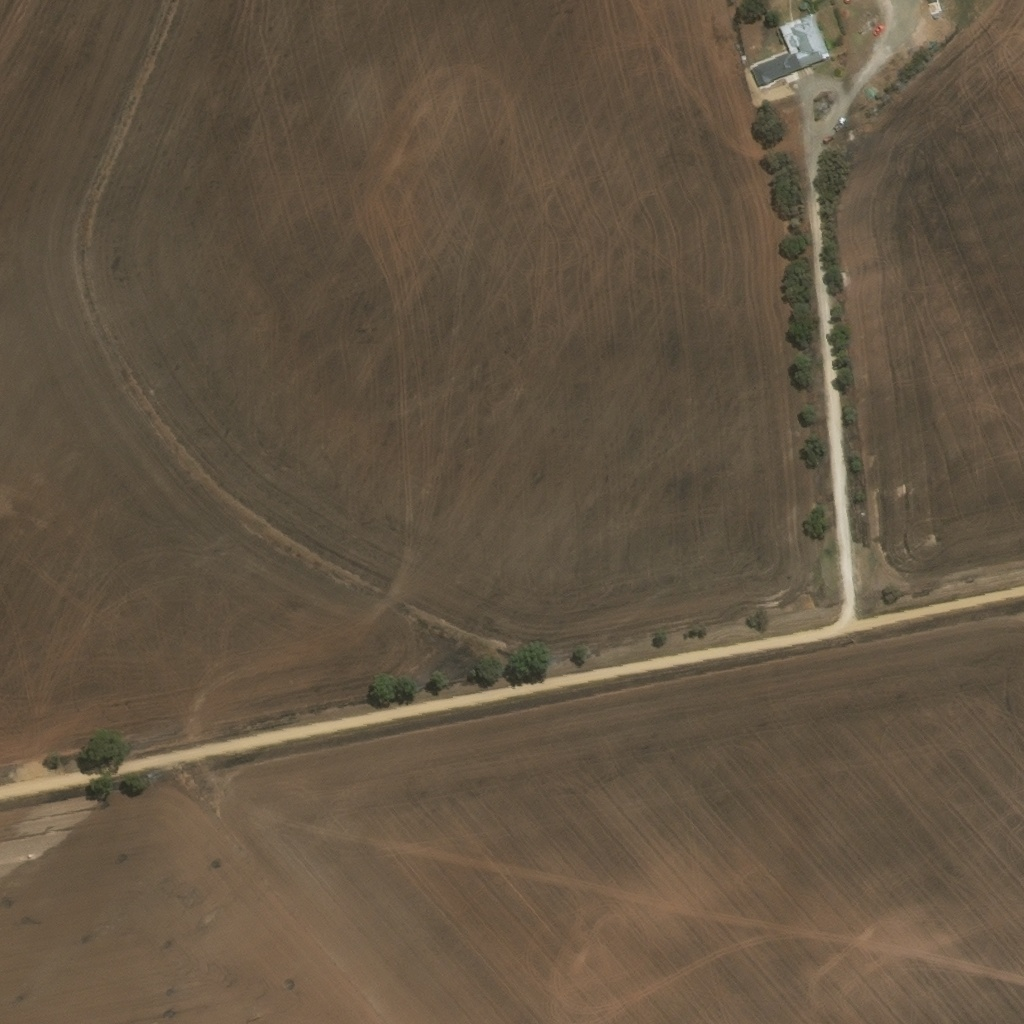0 no-damage: (750, 14, 831, 88), (800, 1, 809, 10)
